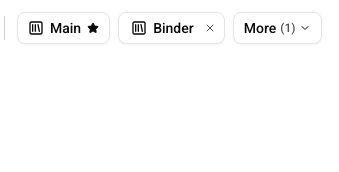
Test case: OpenCollectionButtons › renders pinned entities inline and keeps every other one behind the More menu
The image size is (339, 172).
Expected: the element with test id "open-entity-c1" is shown, x1=17 y1=12 x2=110 y2=44
Expected: the element with test id "open-entity-c2" is shown, x1=118 y1=12 x2=225 y2=44
Step 1. Click the button with test id "open-entities-more" → (278,28), box x1=233 y1=12 x2=322 y2=44
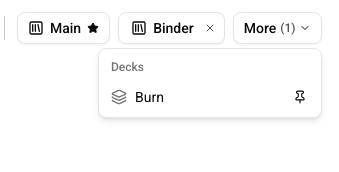
Expected: the element with test id "open-entity-menu-d1" is shown, x1=103 y1=81 x2=317 y2=113
